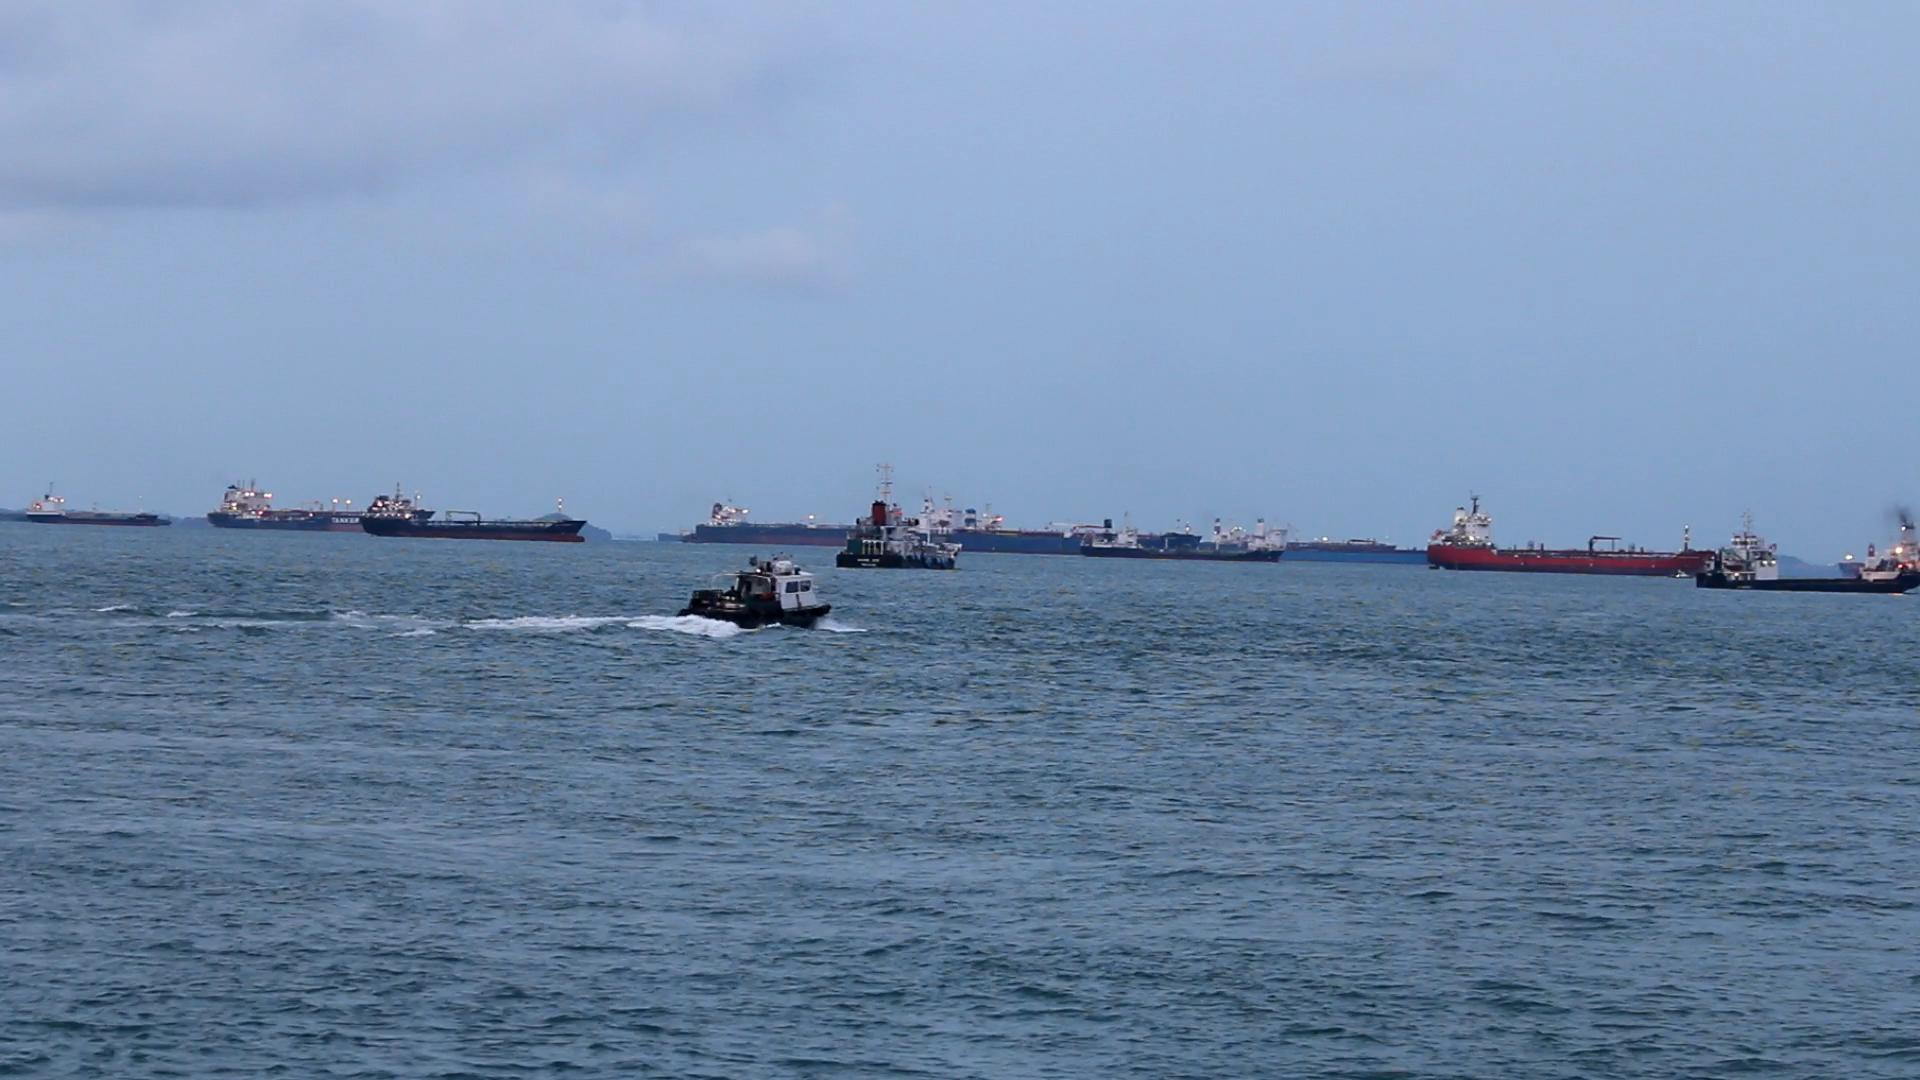Container Ship: (1416, 473, 1724, 570), (1689, 509, 1913, 599), (898, 485, 1137, 556), (359, 484, 595, 546), (1080, 504, 1294, 567), (1197, 504, 1406, 566), (684, 485, 891, 541), (829, 501, 969, 574), (1832, 488, 1920, 575), (210, 481, 336, 533), (21, 485, 167, 526), (256, 495, 393, 530), (620, 509, 678, 554)
